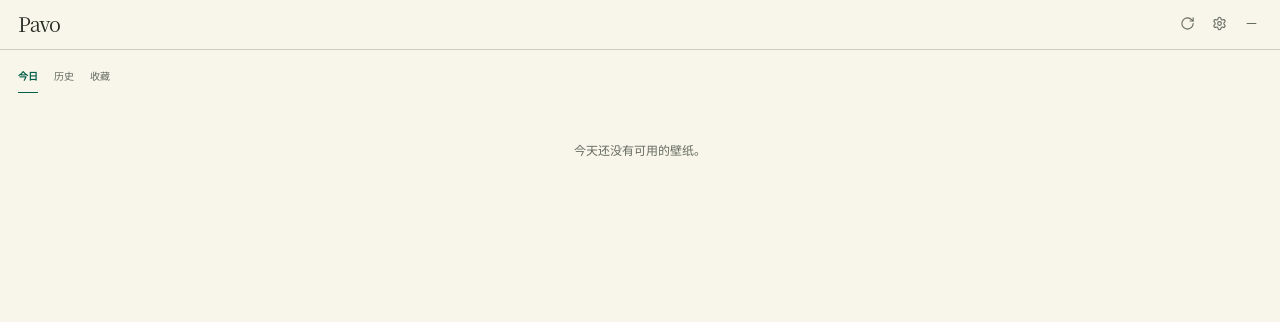
switches between the archive and favorites folios
Step 1. Click the tab "历史" → (64, 78), box [54, 64, 74, 93]
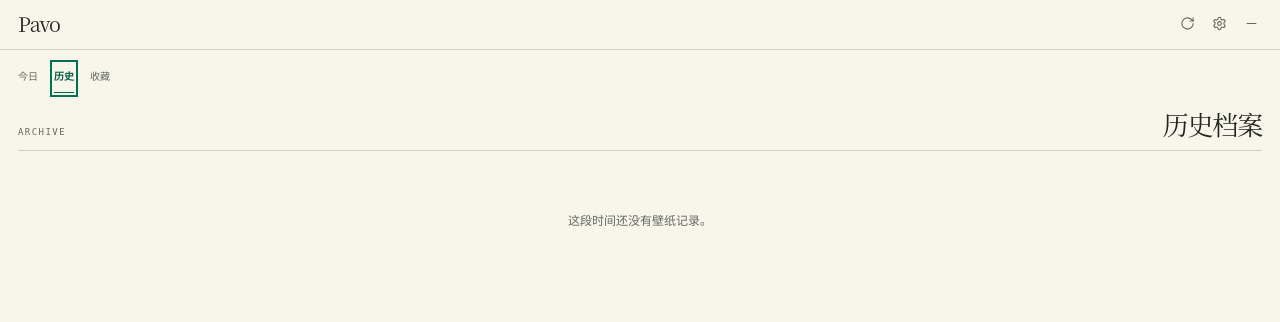
Expected: the heading "历史档案" is shown, [1163, 111, 1262, 137]
Step 2. Click the tab "收藏" → (100, 78), box [90, 64, 110, 93]
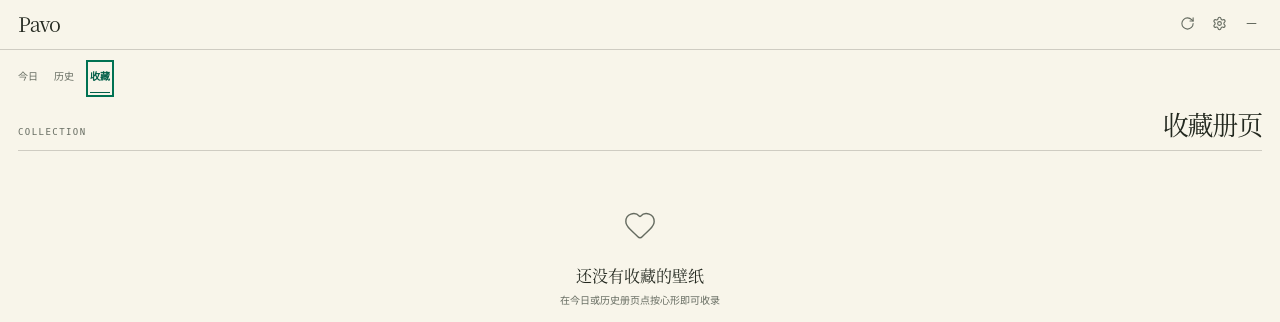
Expected: the heading "收藏册页" is shown, [1163, 111, 1262, 137]
